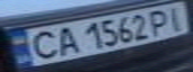1: (78, 19, 103, 49)
2: (130, 11, 154, 40)
5: (100, 16, 121, 47)
6: (115, 14, 136, 44)
A: (48, 25, 81, 56)
C: (21, 28, 63, 61)
I: (163, 3, 193, 32)
P: (145, 7, 175, 36)
